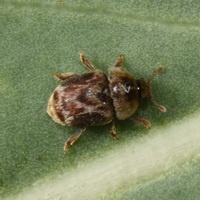insect: (47, 51, 165, 152)
